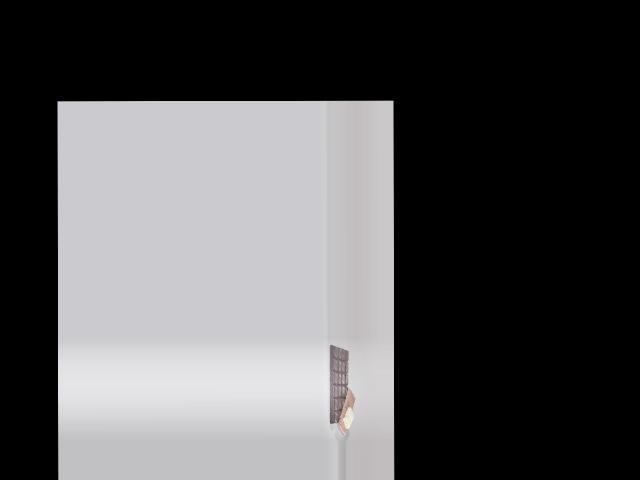chocolate: (326, 344, 351, 428)
